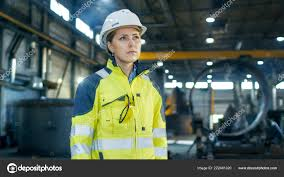Person_wearing_helmet: (95, 5, 149, 43)
